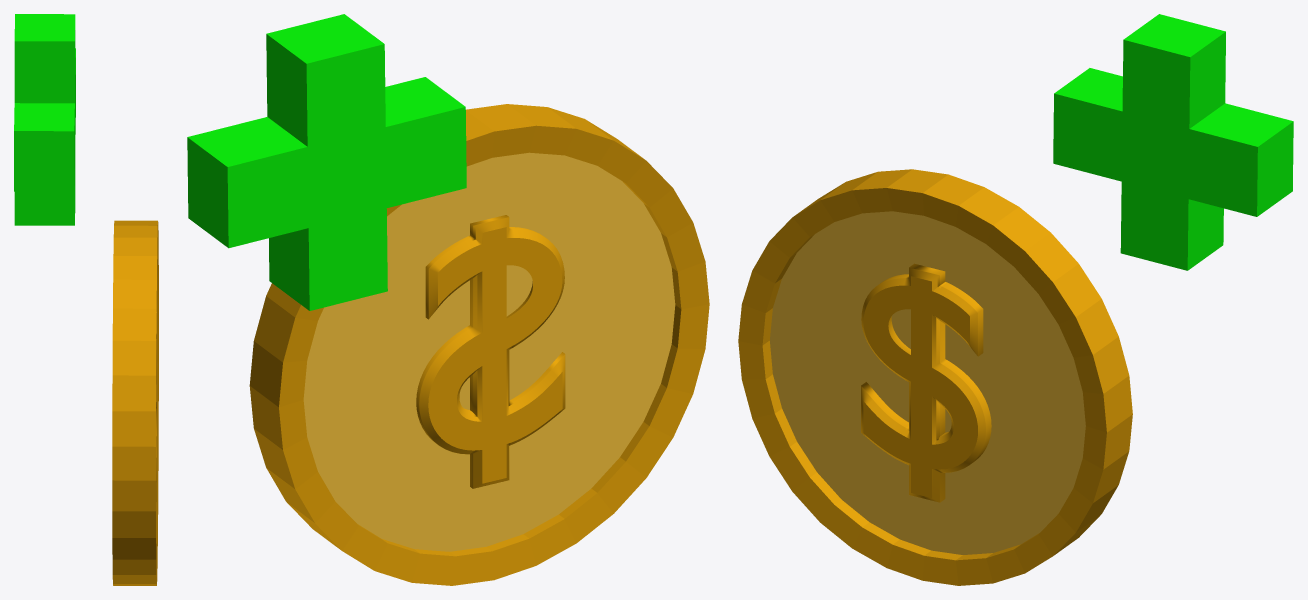
File: coin (1).fbx
3 renders of one model, left to right at view 1: azimuth 30°, elevation 25°; view 2: azimuth 150°, elevation 25°; view 3: azimuth 270°, elevation 25°, orthographic. The views are drawn at different scales.
Parts seen in each view (by area): view 1: Cube.002; view 2: Cube.002; view 3: Cube.002.
Part boxes in pixels (x1,y1,x2,y2): Cube.002: (14, 14, 158, 585); Cube.002: (187, 14, 709, 585); Cube.002: (738, 14, 1293, 585).
Size of the model in its own units: 139 by 319 by 296.
